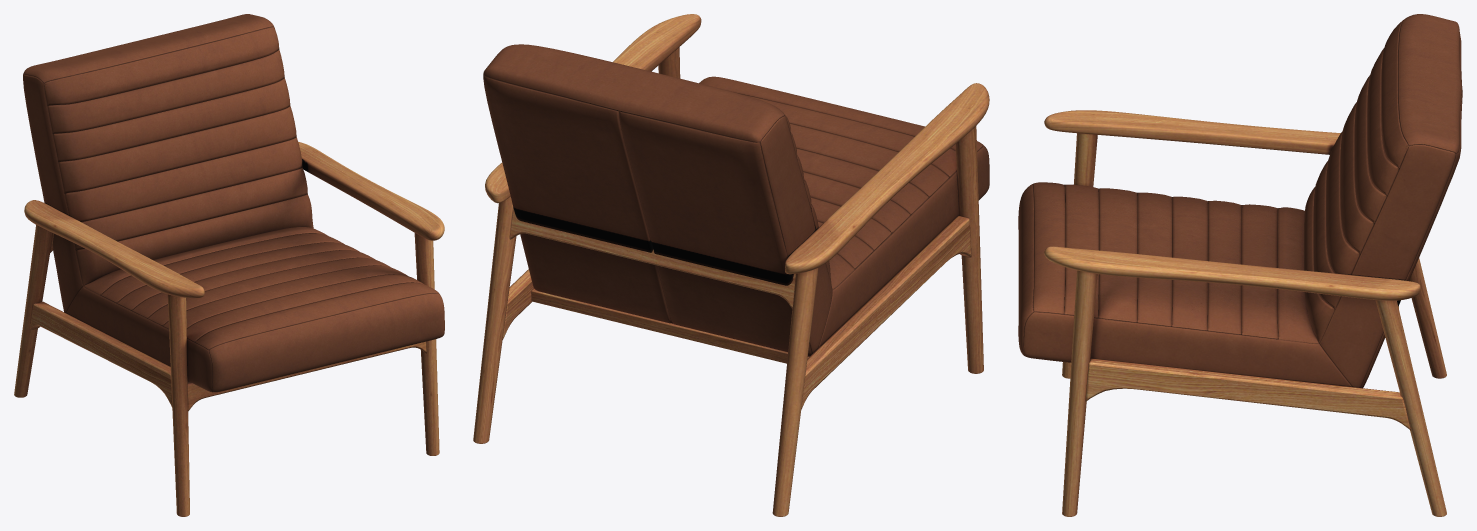
3 views of the same model, side by side, from view 1: azimuth 30°, elevation 25°; view 2: azimuth 150°, elevation 25°; view 3: azimuth 270°, elevation 25° (orthographic). The views are drawn at different scales.
Parts seen in each view (by area): view 1: Alarice_Accent_Chair_LEATHER_0, Alarice_Accent_Chair_WOOD_0; view 2: Alarice_Accent_Chair_LEATHER_0, Alarice_Accent_Chair_WOOD_0; view 3: Alarice_Accent_Chair_LEATHER_0, Alarice_Accent_Chair_WOOD_0.
Part boxes in pixels (x1,y1,x2,y2): Alarice_Accent_Chair_LEATHER_0: (23,14,444,392); Alarice_Accent_Chair_WOOD_0: (14,142,444,516); Alarice_Accent_Chair_LEATHER_0: (483,44,989,356); Alarice_Accent_Chair_WOOD_0: (473,14,989,516); Alarice_Accent_Chair_LEATHER_0: (1018,14,1462,388); Alarice_Accent_Chair_WOOD_0: (1044,110,1446,516).
Bounding box in the file's own units: 0.4307 × 0.4786 × 0.5162.
Materials: 3 (2 with a texture image).
